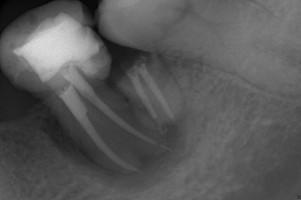Dental Caries: (39, 102, 188, 192)
